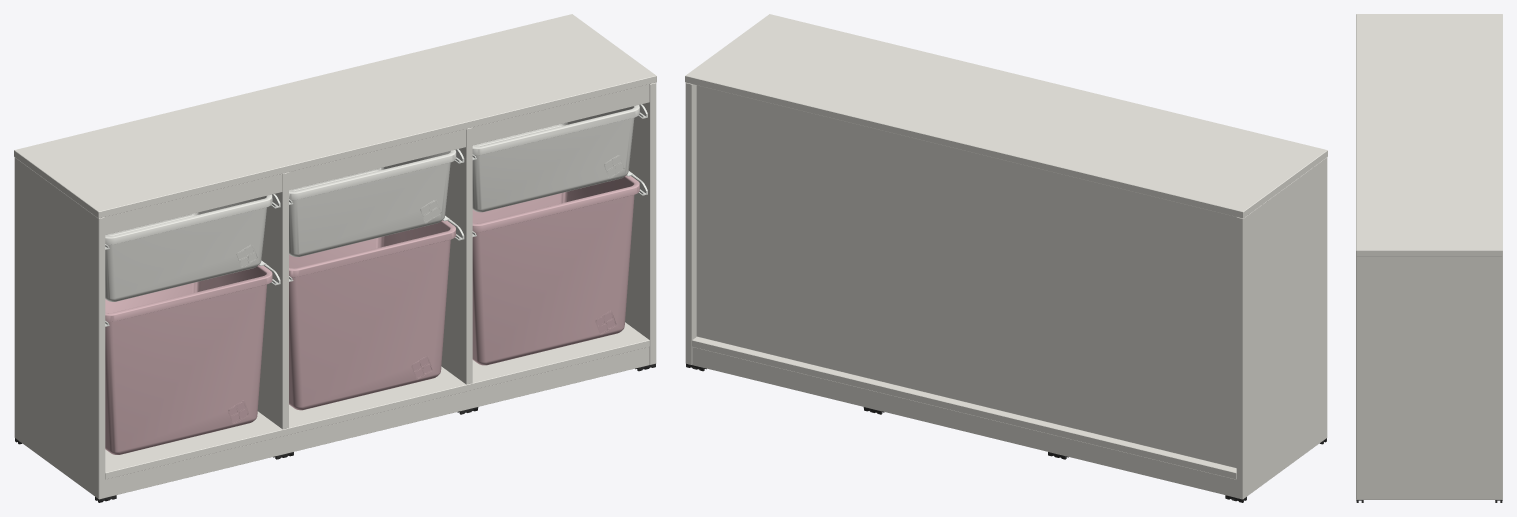
The model's file is baby_store.glb.
The picture shows the model from 3 angles, left to right: view 1: azimuth 30°, elevation 25°; view 2: azimuth 150°, elevation 25°; view 3: azimuth 270°, elevation 25°; orthographic projection. The views are drawn at different scales.
Parts seen in each view (by area): view 1: BP_BKIC10019; view 2: BP_BKIC10019; view 3: BP_BKIC10019.
Boxes of the visible parts, <box> form: BP_BKIC10019: <box>14,14,656,502</box>; BP_BKIC10019: <box>685,14,1327,502</box>; BP_BKIC10019: <box>1356,14,1502,502</box>.
Bounding box in the file's own units: 1.28 × 0.637 × 0.335.
